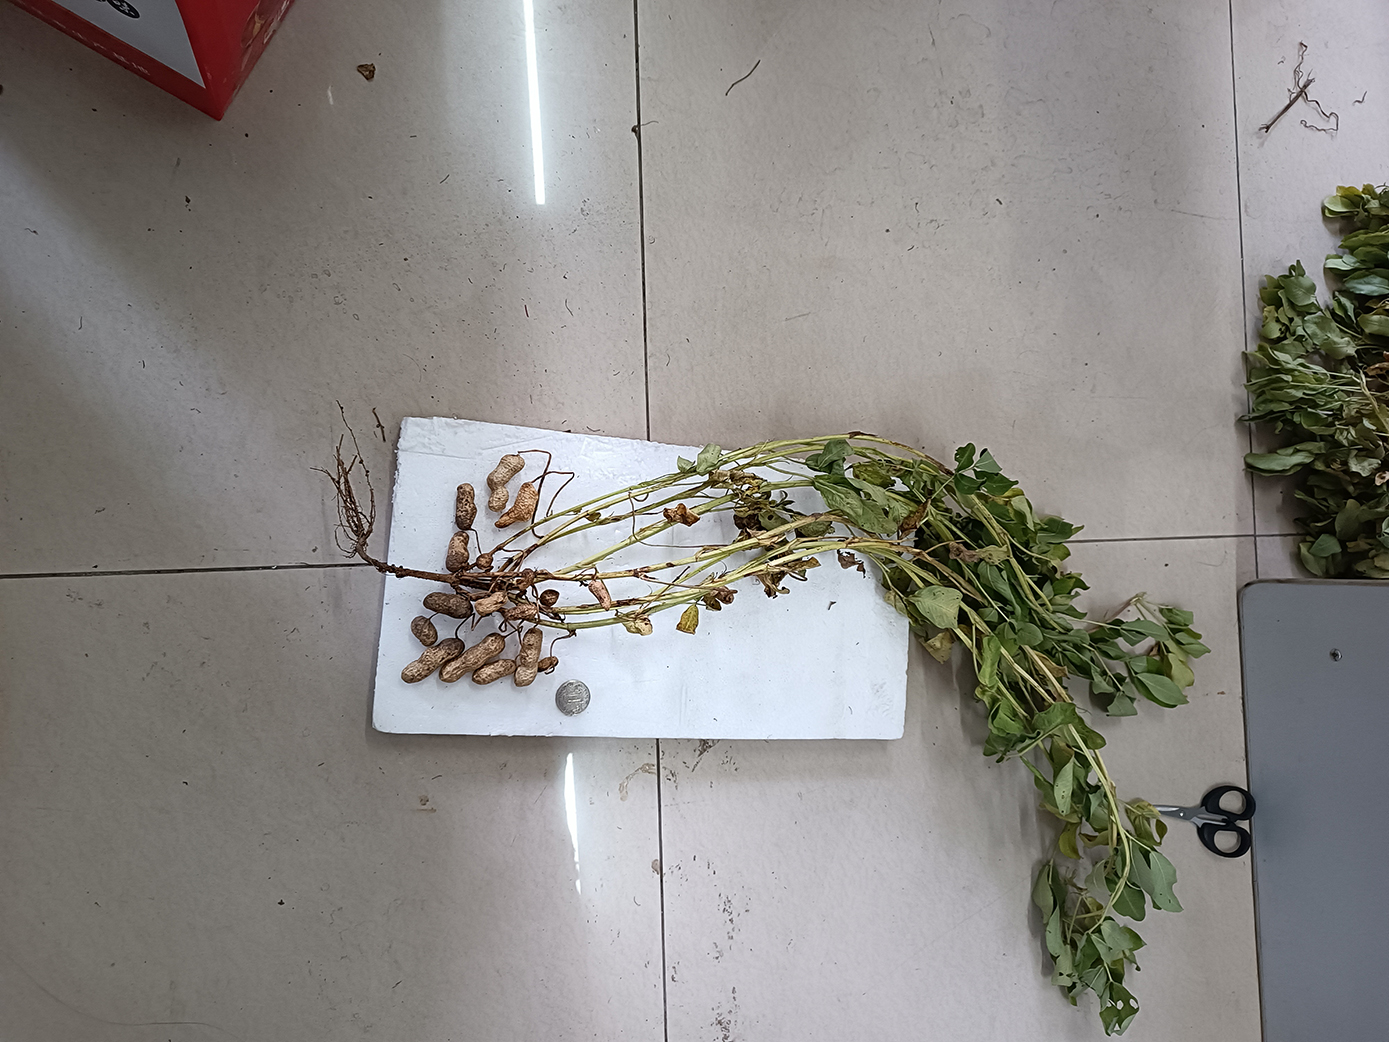h: (439, 632, 505, 683), (401, 639, 466, 683), (486, 454, 525, 512), (493, 482, 537, 528), (516, 628, 539, 687), (453, 482, 477, 530), (445, 531, 472, 574), (472, 660, 519, 683), (475, 592, 507, 617), (588, 580, 612, 612), (708, 581, 734, 605), (506, 605, 539, 623), (537, 657, 559, 674), (476, 553, 493, 569)
l: (423, 593, 473, 620), (410, 616, 438, 647), (539, 589, 562, 607)
